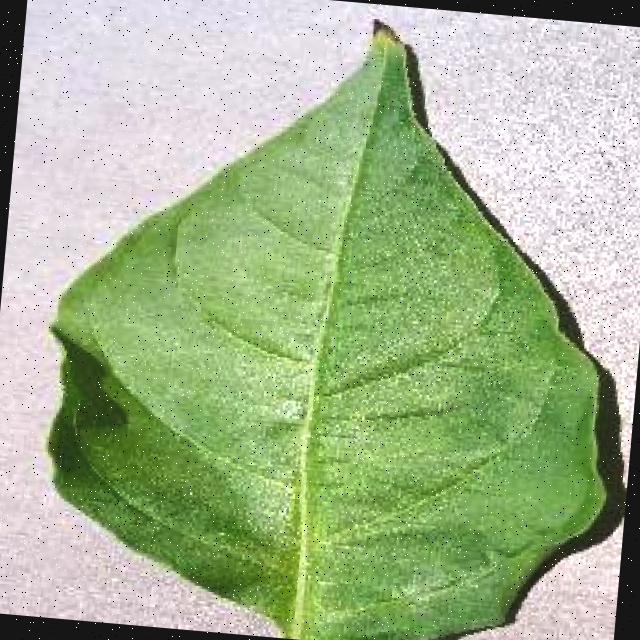Leaf: (10, 53, 613, 594)
